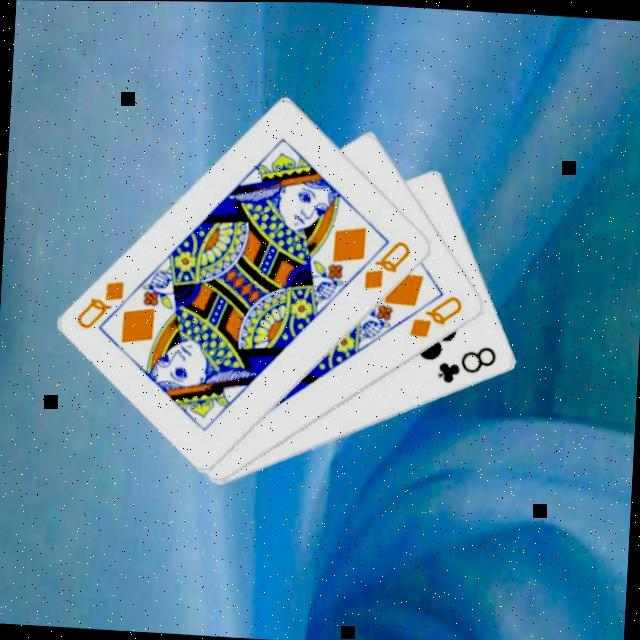8C: (433, 342, 500, 391)
QD: (72, 276, 128, 335), (405, 291, 466, 344), (359, 237, 413, 296)
